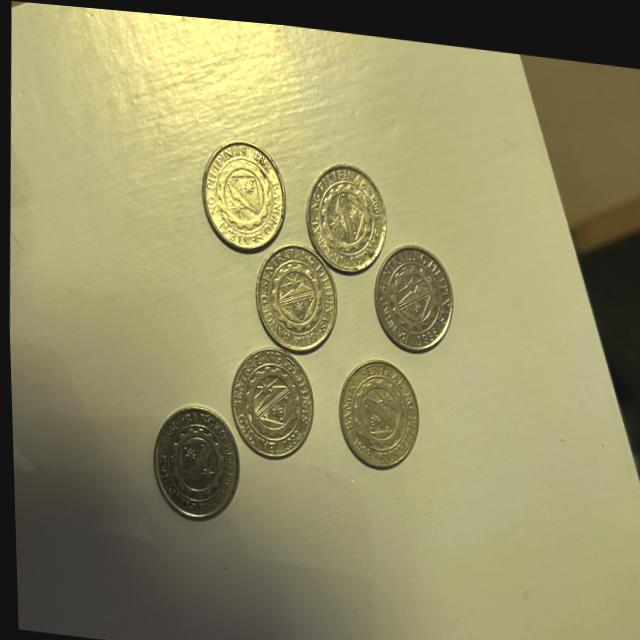1_Old_Back: (209, 140, 277, 239), (158, 412, 227, 506), (343, 361, 412, 450), (236, 351, 305, 440), (311, 169, 380, 253), (384, 240, 444, 333), (262, 249, 327, 331)
